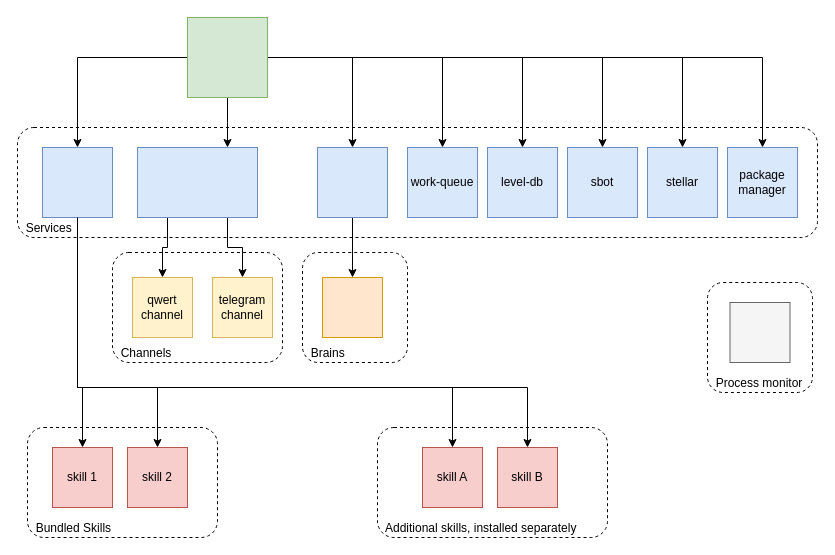
This 835x555 diagram has some shape labels left out. The shapes that lost their labels are listed below. From the top down, each one's centre as x and y in pixels, then its label:
At (227,57): "elife".
At (77,182): "skill manager".
At (197,182): "communications manager".
At (352,182): "ai service".
At (352,307): "aiml brain".
At (759,332): "pm2".
